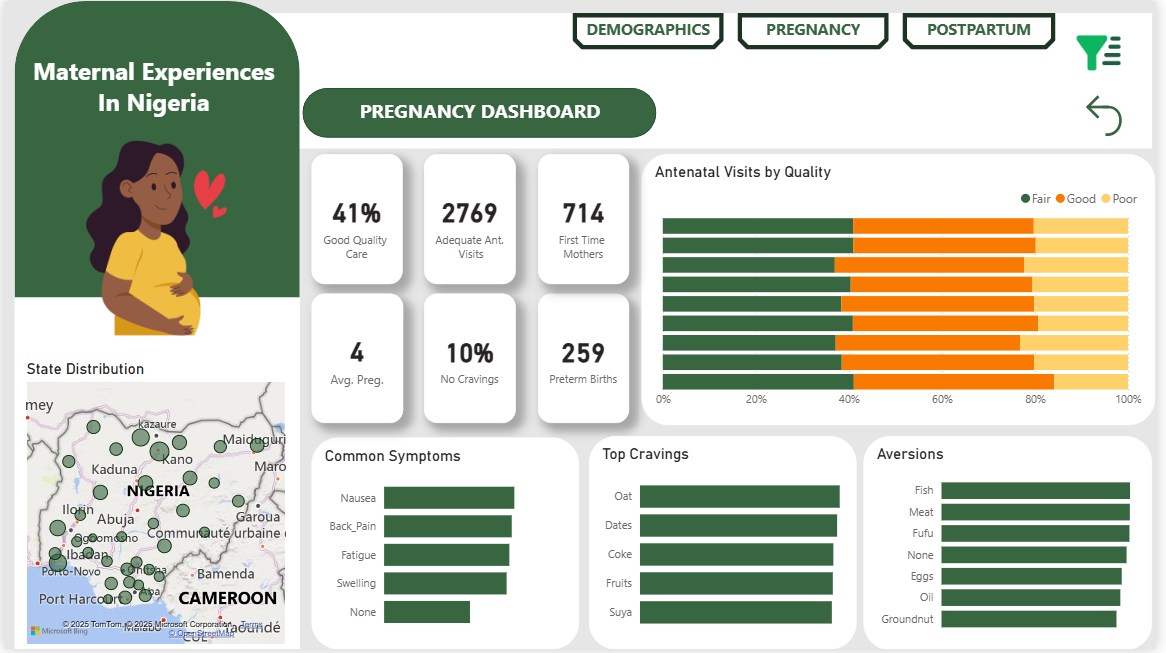

Layout of this report page (visuals, bound fields, positions):
{"tool":"powerbi","page":{"name":"Pregnancy","canvas":[1280,720],"ordinal":1},"visuals":[{"type":"group","id":"g1","title":"Dashboard","box":[12.1,0,1267.3,720.7],"z":0},{"type":"shape","box":[12.1,329.3,317.2,391.4],"z":0,"group":"g1"},{"type":"shape","box":[253.3,12.8,1022.4,150.5],"z":1000,"group":"g1"},{"type":"shape","box":[12.1,0,317,329.3],"z":2000,"group":"g1"},{"type":"actionButton","title":"Reset Button","box":[1194,98,76,58],"z":2000},{"type":"actionButton","title":"Demographics Button","box":[631.6,13.5,168.1,40.6],"z":3000},{"type":"textbox","box":[26.7,53.3,286.7,91.7],"z":3000,"group":"g1"},{"type":"actionButton","title":"Pregnancy Button","box":[815.1,13.5,168.1,40.6],"z":4000},{"type":"card","fields":{"Values":["nigeria_pregnancy_experience_5000.AdequateAntenatalVisits"]},"box":[467.5,170.8,101.8,144.7],"z":4000,"group":"g1"},{"type":"actionButton","title":"Postpartum Button","box":[998.6,13.5,170,40.6],"z":5000},{"type":"card","fields":{"Values":["nigeria_pregnancy_experience_5000.Preterm Deliveries"]},"box":[593.2,325.1,101,144],"z":5000,"group":"g1"},{"type":"card","fields":{"Values":["nigeria_pregnancy_experience_5000.PctGoodQualityCare"]},"box":[341.8,170.8,101,144.7],"z":6000,"group":"g1"},{"type":"card","fields":{"Values":["nigeria_pregnancy_experience_5000.% No Cravings"]},"box":[467.5,325.1,101.8,144],"z":7000,"group":"g1"},{"type":"clusteredBarChart","title":"Top Cravings","fields":{"Category":["nigeria_pregnancy_experience_5000.cravings"],"Y":["CountNonNull(nigeria_pregnancy_experience_5000.mother_id)"]},"box":[650,482.5,297.5,237.5],"z":8000,"group":"g1"},{"type":"clusteredBarChart","title":"Common Symptoms","fields":{"Category":["nigeria_pregnancy_experience_5000.symptoms"],"Y":["CountNonNull(nigeria_pregnancy_experience_5000.mother_id)"]},"box":[342.5,485,297.5,235],"z":9000,"group":"g1"},{"type":"clusteredBarChart","title":"Aversions","fields":{"Category":["nigeria_pregnancy_experience_5000.aversions"],"Y":["CountNonNull(nigeria_pregnancy_experience_5000.mother_id)"]},"box":[955.2,482.8,320.7,237.9],"z":10000,"group":"g1"},{"type":"hundredPercentStackedBarChart","title":"Antenatal Visits by Quality","fields":{"Category":["nigeria_pregnancy_experience_5000.antenatal_visits"],"Series":["nigeria_pregnancy_experience_5000.antenatal_quality"],"Y":["Count(nigeria_pregnancy_experience_5000.mother_id)"]},"box":[708.6,170.7,570.9,301],"z":11000,"group":"g1"},{"type":"card","fields":{"Values":["nigeria_pregnancy_experience_5000.FirstTimeMothers"]},"box":[593.2,170.8,101,144.7],"z":12000,"group":"g1"},{"type":"card","fields":{"Values":["nigeria_pregnancy_experience_5000.AvgPregnancies"]},"box":[341.8,325.1,101.8,144],"z":13000,"group":"g1"},{"type":"shape","box":[332.5,96,393.1,55.2],"z":14000,"group":"g1"},{"type":"textbox","box":[360.1,101.1,337.9,44.8],"z":15000,"group":"g1"},{"type":"image","box":[19.1,135.2,299,256.1],"z":16000,"group":"g1"},{"type":"map","title":"State Distribution","fields":{"Category":["nigeria_maternal_demographics_5000.state"],"Size":["CountNonNull(nigeria_maternal_demographics_5000.mother_id)"]},"box":[20.7,398.7,297.4,321.3],"z":17000,"group":"g1"},{"type":"image","title":"Filter Icon","box":[1182.6,25.4,68.4,65.2],"z":18000,"group":"g1"}]}

Visuals, with their boxes in screenshot pixels (x1, y1, x2, y2), scaled from the page's 1280x720 canvas onto the 1166x653 screenshot:
"Dashboard" group: <box>11,0,1165,652</box>
shape: <box>11,299,300,652</box>
shape: <box>231,12,1162,148</box>
shape: <box>11,0,300,299</box>
"Reset Button" actionButton: <box>1088,89,1157,141</box>
"Demographics Button" actionButton: <box>575,12,728,49</box>
textbox: <box>24,48,285,132</box>
"Pregnancy Button" actionButton: <box>743,12,896,49</box>
card - nigeria_pregnancy_experience_5000.AdequateAntenatalVisits: <box>426,155,519,286</box>
"Postpartum Button" actionButton: <box>910,12,1065,49</box>
card - nigeria_pregnancy_experience_5000.Preterm Deliveries: <box>540,295,632,425</box>
card - nigeria_pregnancy_experience_5000.PctGoodQualityCare: <box>311,155,403,286</box>
card - nigeria_pregnancy_experience_5000.% No Cravings: <box>426,295,519,425</box>
"Top Cravings" clusteredBarChart: <box>592,438,863,652</box>
"Common Symptoms" clusteredBarChart: <box>312,440,583,652</box>
"Aversions" clusteredBarChart: <box>870,438,1162,652</box>
"Antenatal Visits by Quality" hundredPercentStackedBarChart: <box>645,155,1165,428</box>
card - nigeria_pregnancy_experience_5000.FirstTimeMothers: <box>540,155,632,286</box>
card - nigeria_pregnancy_experience_5000.AvgPregnancies: <box>311,295,404,425</box>
shape: <box>303,87,661,137</box>
textbox: <box>328,92,636,132</box>
image: <box>17,123,290,355</box>
"State Distribution" map: <box>19,362,290,652</box>
"Filter Icon" image: <box>1077,23,1140,82</box>
